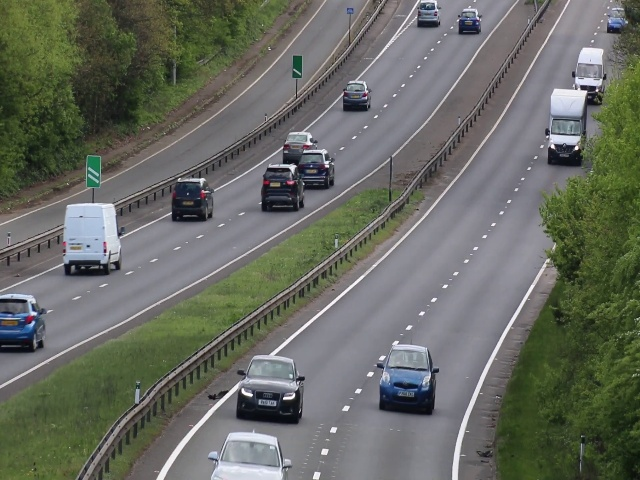car: (234, 354, 304, 424), (60, 202, 124, 277), (207, 428, 291, 480), (376, 344, 437, 415), (549, 87, 585, 167), (1, 293, 46, 353), (261, 164, 305, 212), (171, 175, 214, 223), (573, 45, 604, 104), (295, 146, 336, 188), (341, 78, 372, 113), (282, 128, 307, 163), (415, 1, 441, 27), (458, 9, 482, 34), (607, 7, 625, 34)
